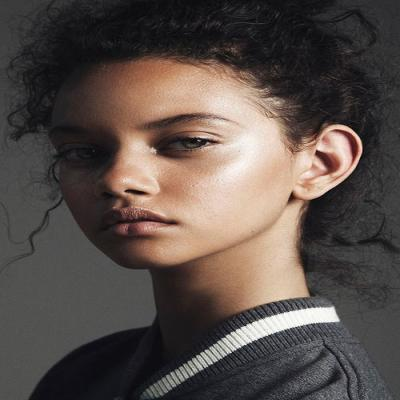netural: (51, 65, 285, 267)
